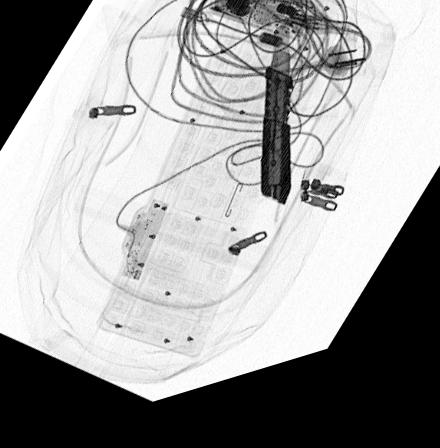Knife: (260, 35, 293, 222)
